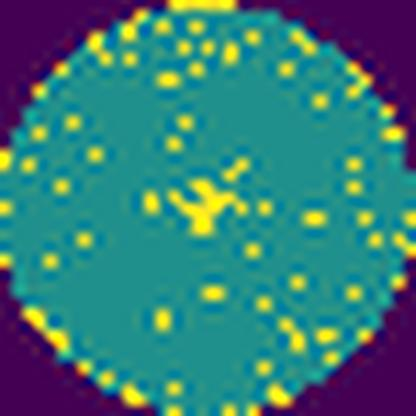Center: (171, 178, 243, 234)
